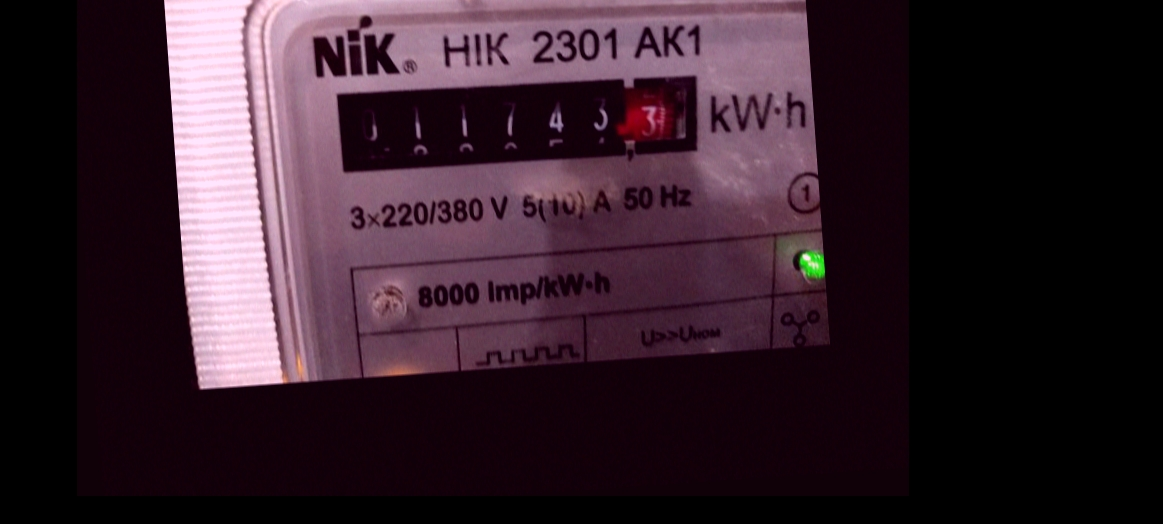0: (356, 104, 381, 144), (406, 99, 427, 142)
1: (453, 97, 472, 139)
3: (588, 90, 611, 135), (637, 100, 659, 139)
4: (543, 94, 566, 135)
7: (496, 94, 522, 139)
screen: (315, 54, 710, 188)
